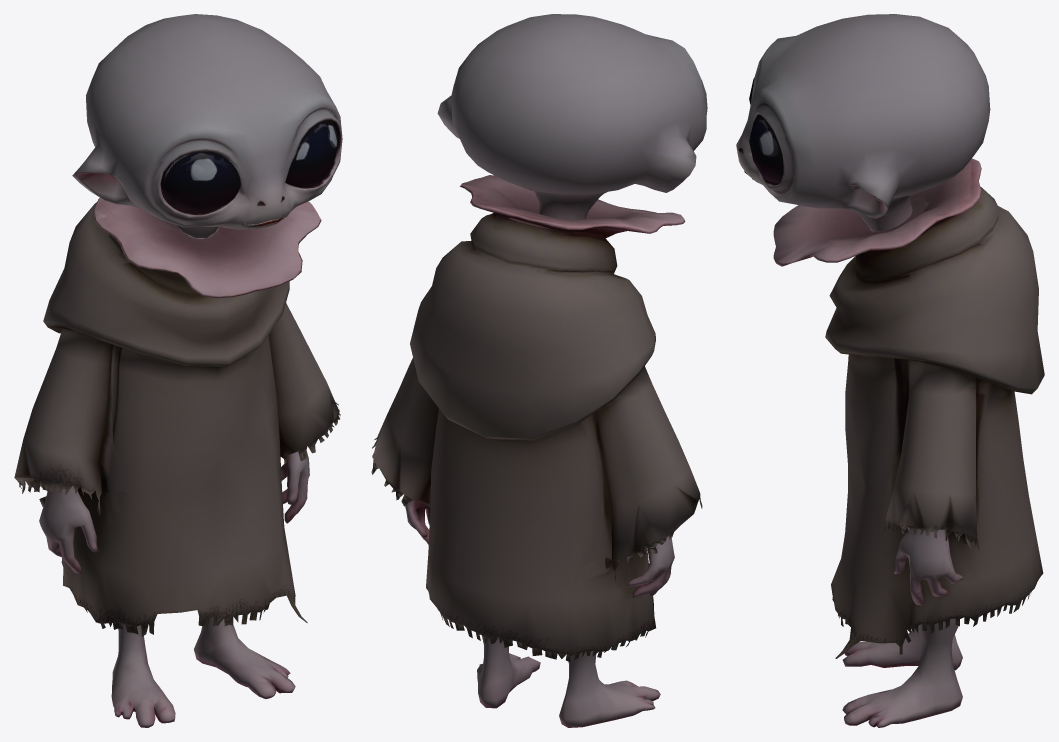
The model's file is selected.glb.
The picture shows the model from 3 angles, left to right: view 1: azimuth 30°, elevation 25°; view 2: azimuth 150°, elevation 25°; view 3: azimuth 270°, elevation 25°; orthographic projection.
Visible parts, largest first — view 1: tripo_node_dd250b46-f31e-44f9-8eb5-a276e53e5830; view 2: tripo_node_dd250b46-f31e-44f9-8eb5-a276e53e5830; view 3: tripo_node_dd250b46-f31e-44f9-8eb5-a276e53e5830.
Part boxes in pixels (box(x1,y1,x2,y2)): tripo_node_dd250b46-f31e-44f9-8eb5-a276e53e5830: box(14, 14, 342, 727); tripo_node_dd250b46-f31e-44f9-8eb5-a276e53e5830: box(371, 14, 707, 727); tripo_node_dd250b46-f31e-44f9-8eb5-a276e53e5830: box(736, 14, 1044, 727).
Bounding box in the file's own units: 0.502 × 0.998 × 0.4199.
1 material, 1 textured.
